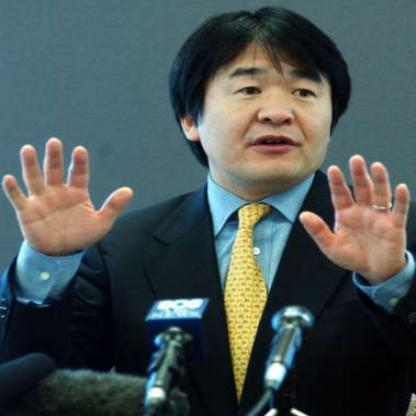face: (198, 15, 343, 189)
